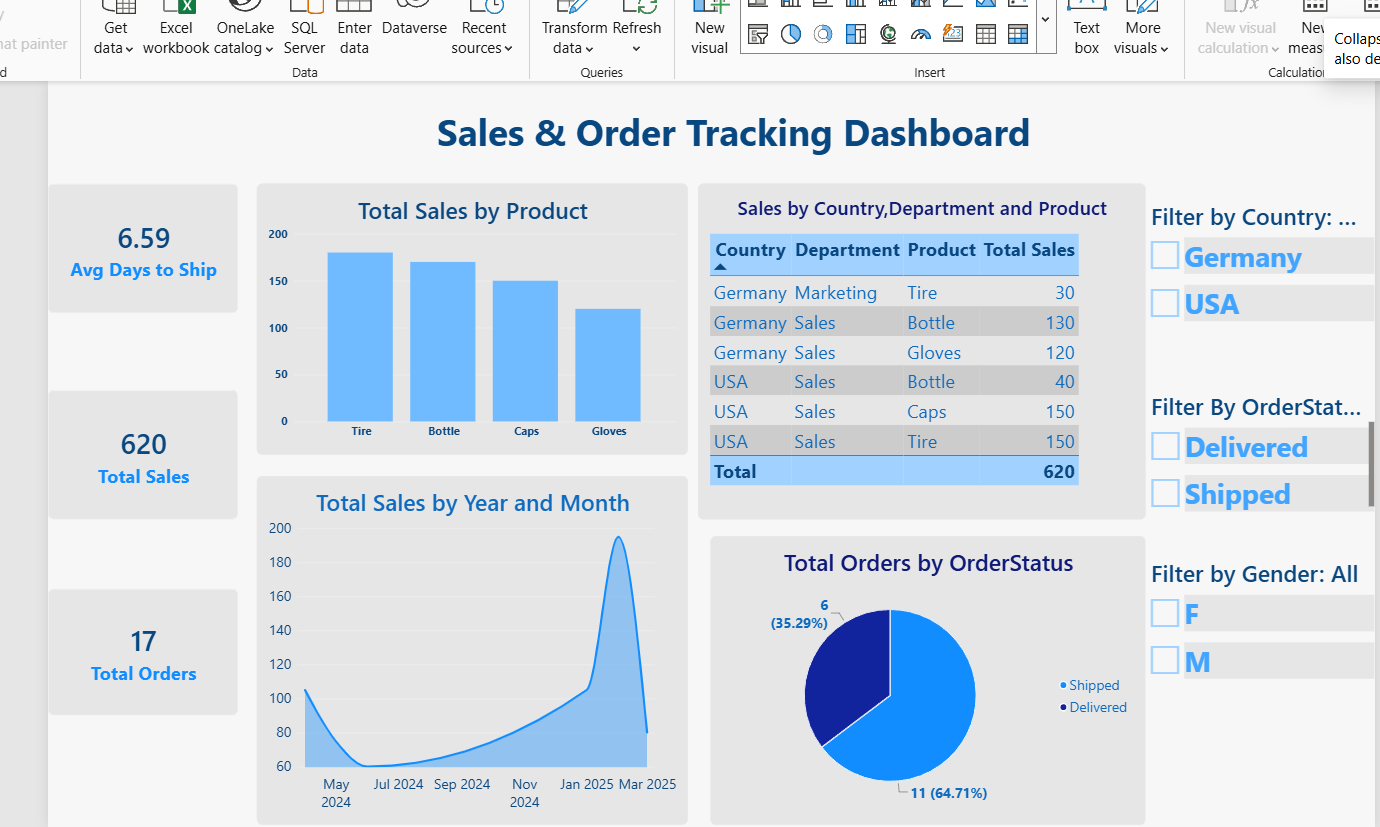

Layout of this report page (visuals, bound fields, positions):
{"tool":"powerbi","page":{"name":"Page 1","canvas":[1920,1080],"ordinal":0},"visuals":[{"type":"columnChart","fields":{"Category":["Products_Dim.Product"],"Y":["Measure.Total Sales"]},"box":[302.2,148.4,624.3,392.7],"z":0},{"type":"pieChart","fields":{"Category":["Orders_Fact.OrderStatus"],"Y":["Measure.Total Orders"]},"box":[959.1,658.7,629.8,418],"z":1},{"type":"lineChart","fields":{"Category":["Orders_Fact.OrderDate.Variation.Date Hierarchy.Year","Orders_Fact.OrderDate.Variation.Date Hierarchy.Month"],"Y":["Measure.Total Sales"]},"box":[302.2,571.9,624.3,504.9],"z":2},{"type":"tableEx","title":"Sales by Country,Department and Product","fields":{"Values":["Customers_Dim.Country","Employees_Dim.Department","Products_Dim.Product","Measure.Total Sales"]},"box":[941,148.4,647.9,486.8],"z":3},{"type":"slicer","fields":{"Values":["Customers_Dim.Country"]},"box":[1588.9,171.9,331.2,186.4],"z":4},{"type":"cardVisual","fields":{"Data":["Measure.Total Sales"]},"box":[0,447,275.1,188.2],"z":10},{"type":"cardVisual","fields":{"Data":["Measure.Avg Days to Ship"]},"box":[0,148.4,275.1,188.2],"z":11},{"type":"slicer","fields":{"Values":["Orders_Fact.OrderStatus"]},"box":[1588.9,447,331.2,181],"z":12},{"type":"slicer","fields":{"Values":["Employees_Dim.Gender"]},"box":[1588.9,689.5,331.2,197.3],"z":13},{"type":"cardVisual","fields":{"Data":["Measure.Total Orders"]},"box":[0,734.7,275.1,184.6],"z":14},{"type":"textbox","box":[37,0,1882.5,148.2],"z":15}]}

Visuals, with their boxes on the page's 1920x1080 design canvas (x1, y1, x2, y2). These are canvas units, not pixel positions in the 1380x827 screenshot, which may show the page scaled, cropped or inside an application window:
columnChart - Products_Dim.Product x Measure.Total Sales: BBox(302, 148, 926, 541)
pieChart - Orders_Fact.OrderStatus x Measure.Total Orders: BBox(959, 659, 1589, 1077)
lineChart - Orders_Fact.OrderDate.Variation.Date Hierarchy.Year x Orders_Fact.OrderDate.Variation.Date Hierarchy.Month: BBox(302, 572, 926, 1077)
"Sales by Country,Department and Product" tableEx: BBox(941, 148, 1589, 635)
slicer - Customers_Dim.Country: BBox(1589, 172, 1920, 358)
cardVisual - Measure.Total Sales: BBox(0, 447, 275, 635)
cardVisual - Measure.Avg Days to Ship: BBox(0, 148, 275, 337)
slicer - Orders_Fact.OrderStatus: BBox(1589, 447, 1920, 628)
slicer - Employees_Dim.Gender: BBox(1589, 690, 1920, 887)
cardVisual - Measure.Total Orders: BBox(0, 735, 275, 919)
textbox: BBox(37, 0, 1920, 148)
